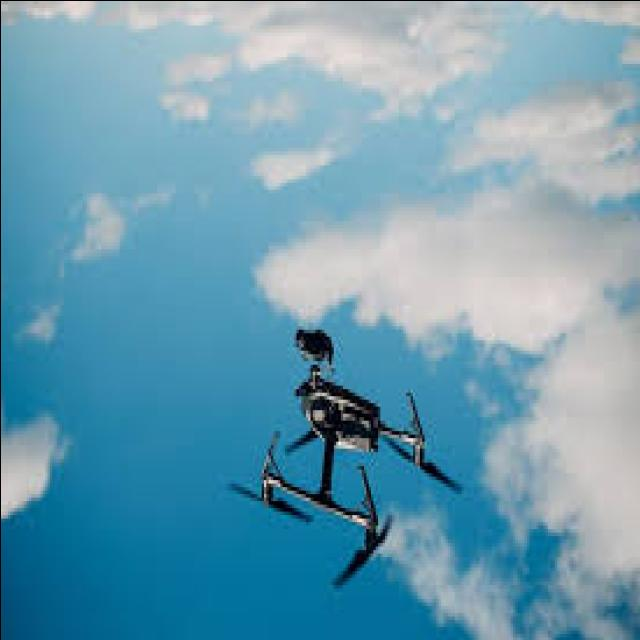drone: (220, 322, 460, 580)
